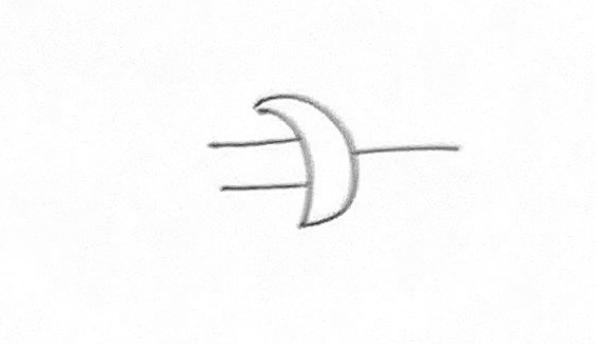OR: (245, 89, 394, 249)
